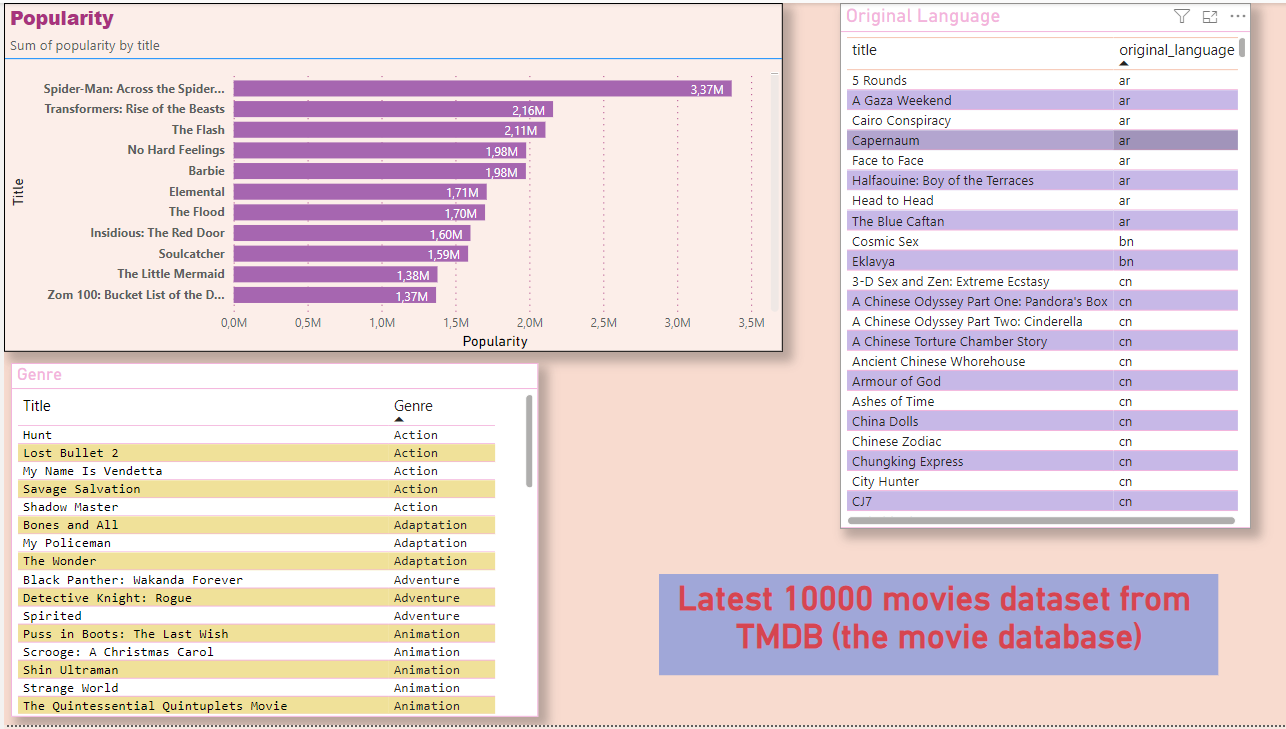

The dashboard page shown, as its layout file describes it:
{"tool":"powerbi","page":{"name":"Page 1","canvas":[1280,720],"ordinal":0},"visuals":[{"type":"clusteredBarChart","title":"Popularity","fields":{"Category":["Movies_dataset.title"],"Y":["Sum(Movies_dataset.popularity)"]},"box":[0,0,776.6,347.9],"z":0},{"type":"tableEx","title":"Original Language","fields":{"Values":["Movies_dataset.title","Movies_dataset.original_language"]},"box":[834.4,0,409.7,524.4],"z":1000},{"type":"tableEx","title":"Genre","fields":{"Values":["Page001.Title","Page001.Genre"]},"box":[6.8,359.6,525.9,352.9],"z":1001},{"type":"textbox","box":[653.7,569.2,558.4,101.3],"z":1002}]}

Visuals, with their boxes in screenshot pixels (x1, y1, x2, y2), scaled from the page's 1280x720 canvas onto the 1286x729 screenshot:
"Popularity" clusteredBarChart: [0,0,780,352]
"Original Language" tableEx: [838,0,1250,531]
"Genre" tableEx: [7,364,535,721]
textbox: [657,576,1218,679]
